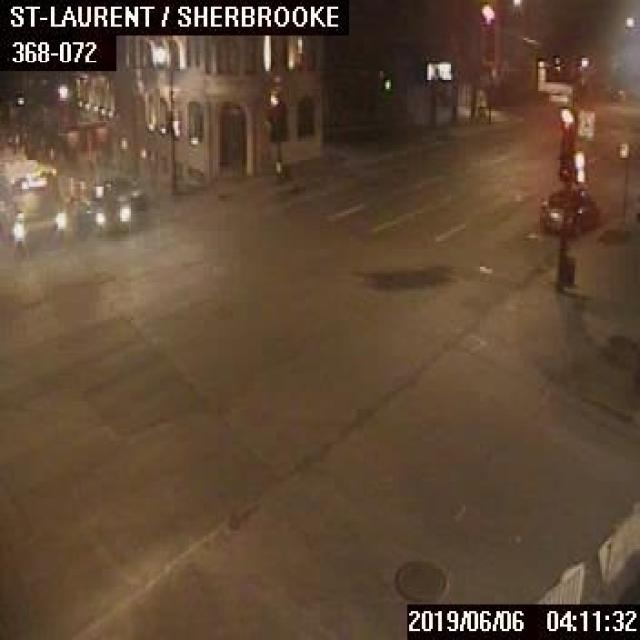bus: (0, 156, 65, 247)
vehicle: (536, 187, 600, 236), (72, 187, 130, 233), (104, 174, 144, 208)
